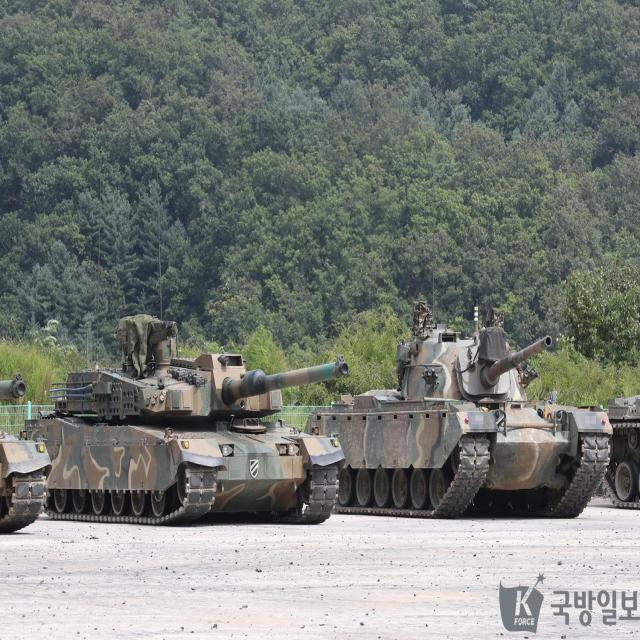north tank: (292, 294, 621, 568), (25, 300, 361, 554)
